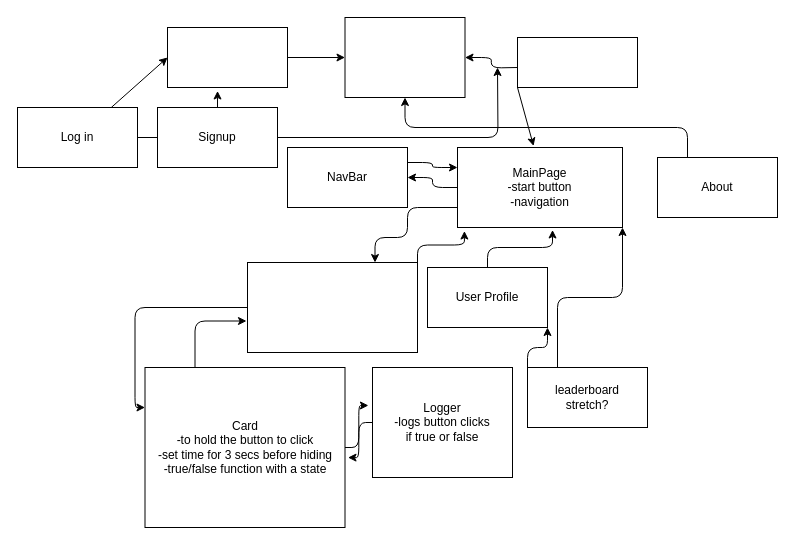
Some shapes in this 795 by 545 pixel diagram are drawn without their labels. The box of each missing label's shape, as (x1, y1, x2, y2) in pixels:
App: (344, 16, 465, 98)
AuthApp: (516, 36, 638, 88)
Container -to hold different cards: (246, 262, 418, 352)
UnauthApp: (166, 26, 288, 88)
